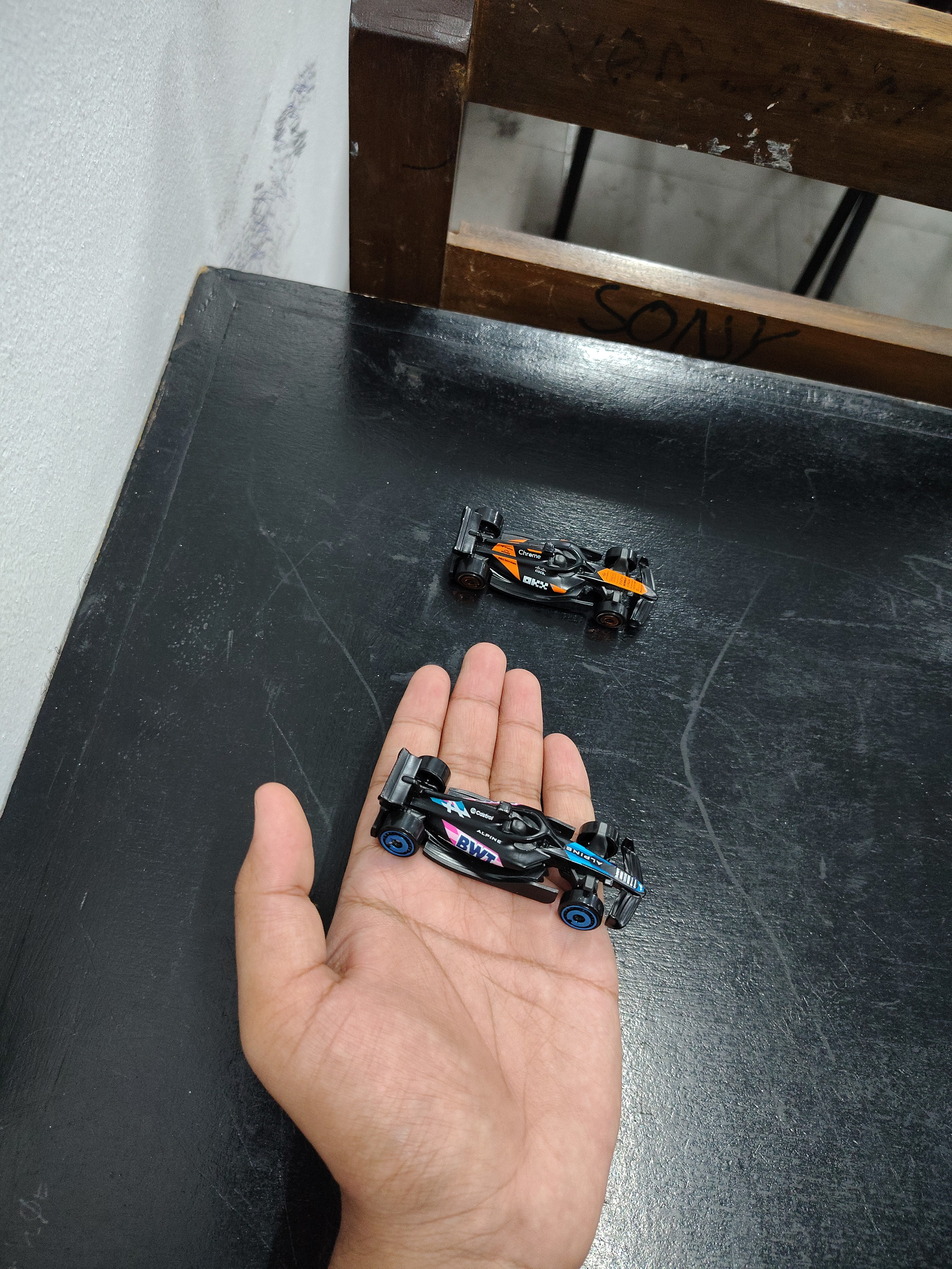Alpine A524: (363, 728, 665, 951)
McLaren MCL40: (411, 472, 711, 658)
